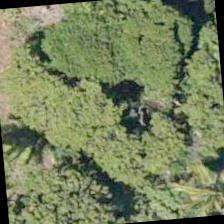Kelapa_Sawit: (163, 140, 223, 219)
